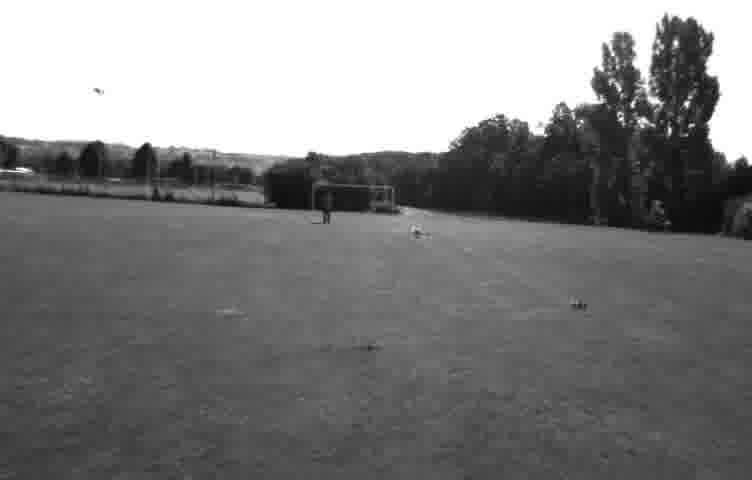drone: (86, 82, 111, 101)
